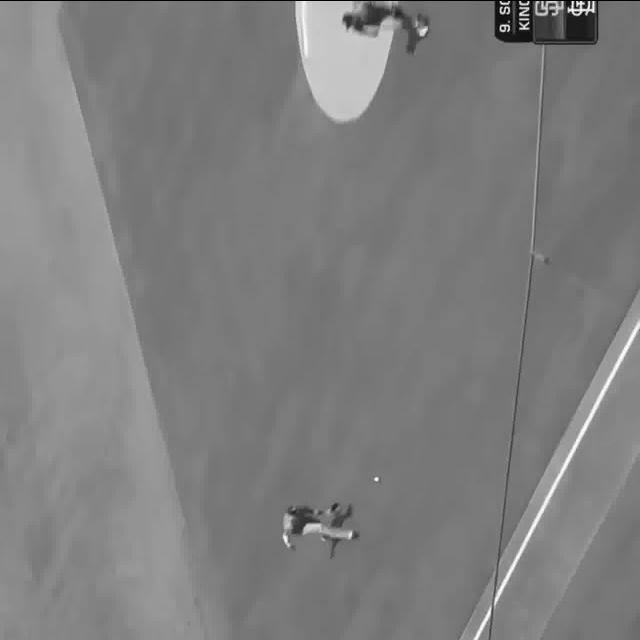baseball: (376, 475, 381, 480)
baseball_glove: (390, 4, 407, 18), (324, 502, 342, 512)
shoe: (416, 16, 430, 36), (348, 528, 358, 538)
